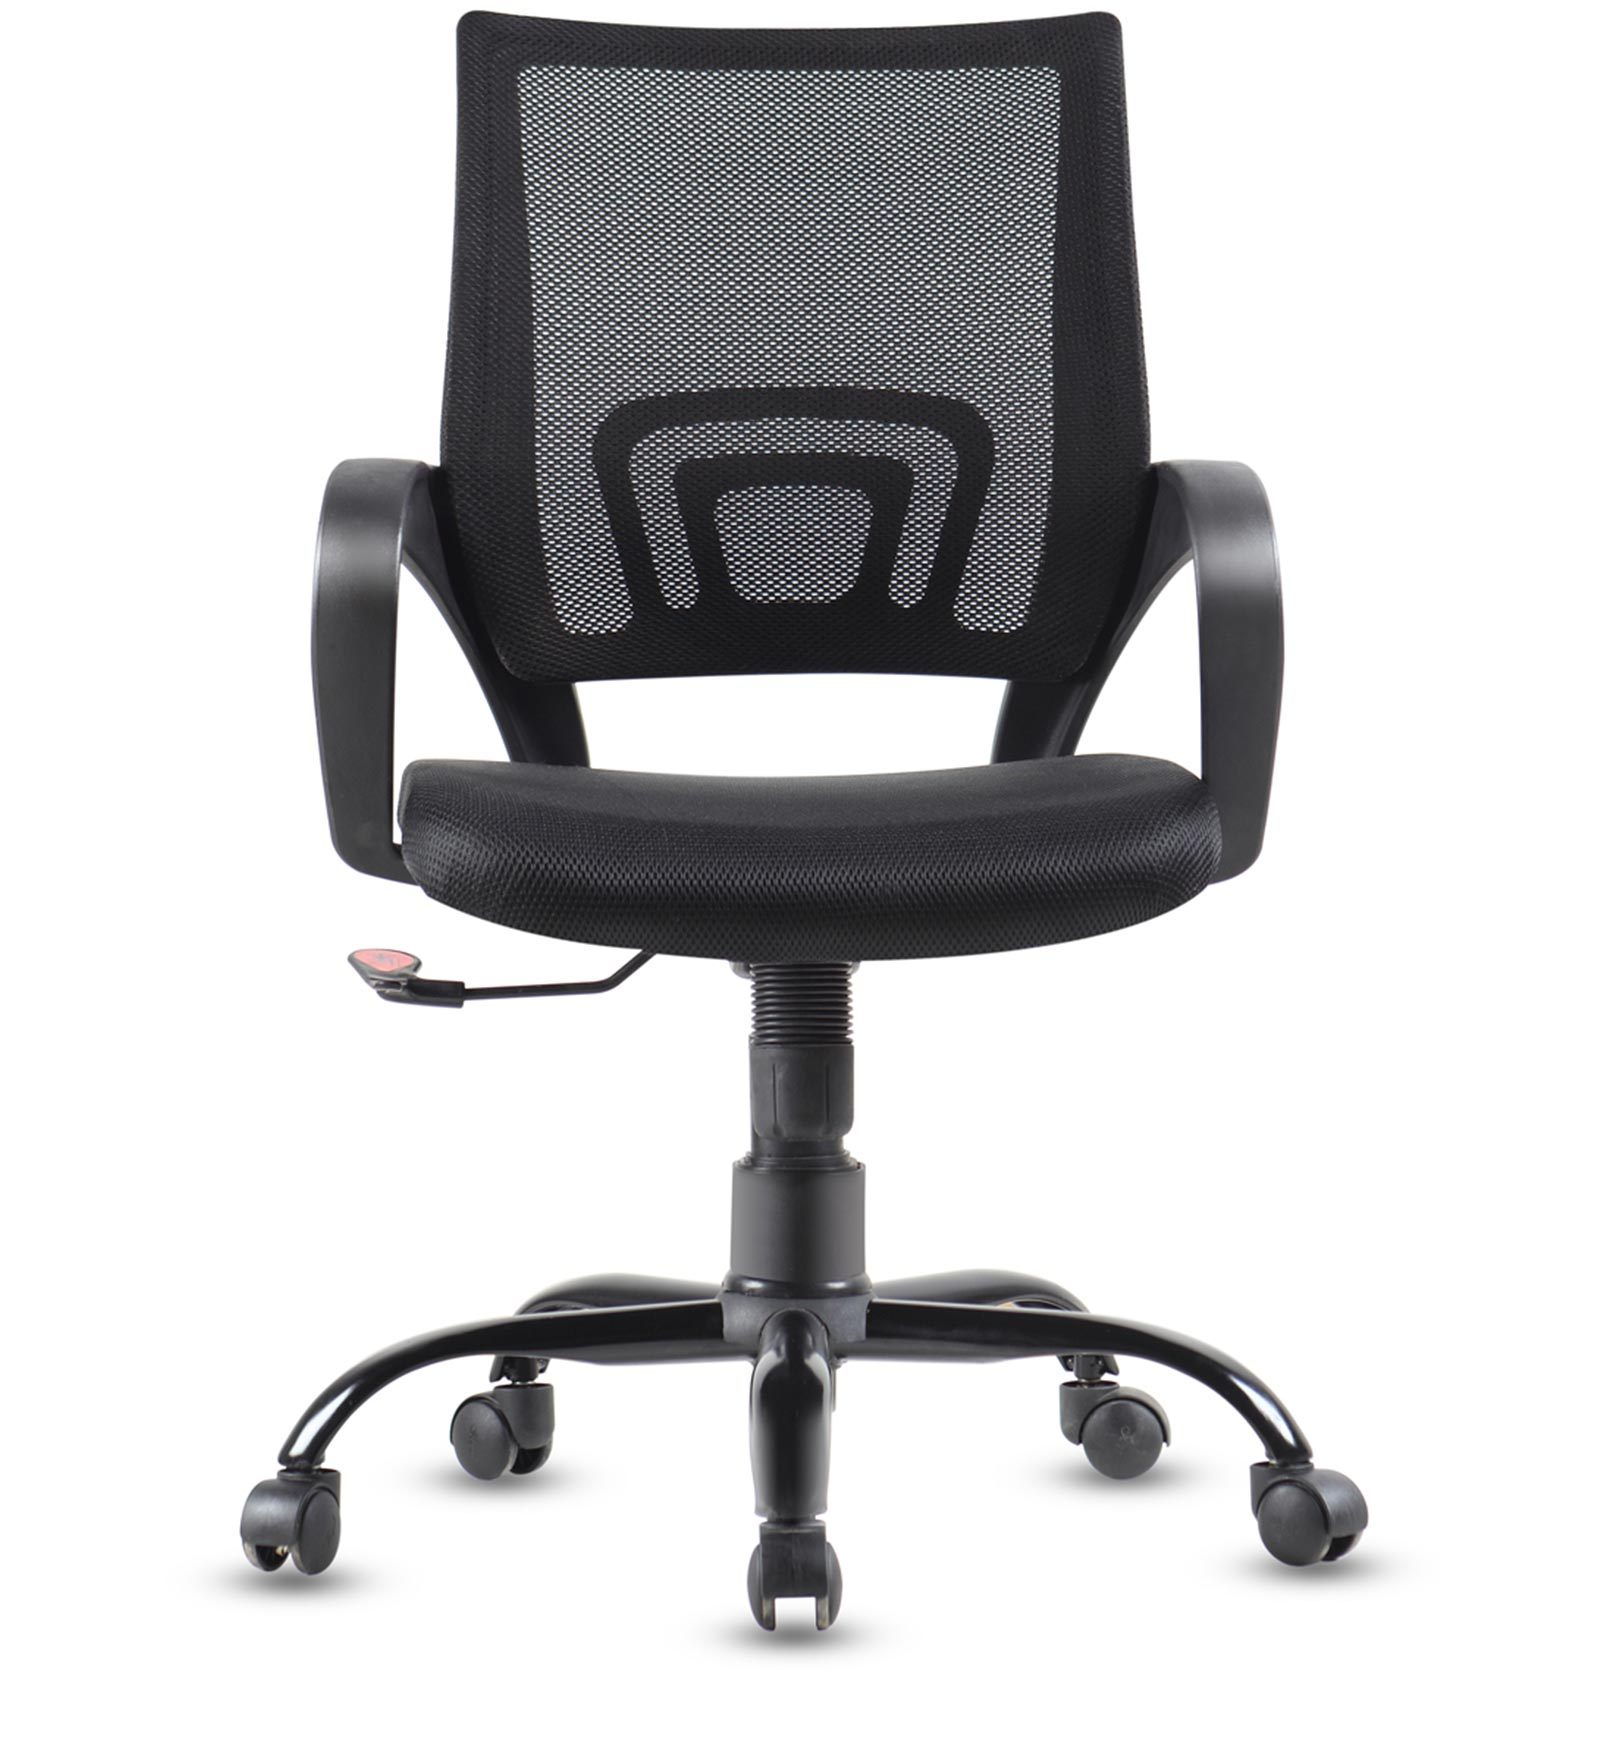Swing Ergonomic Chair in Black Colour by VOF: (181, 8, 1462, 1679)
